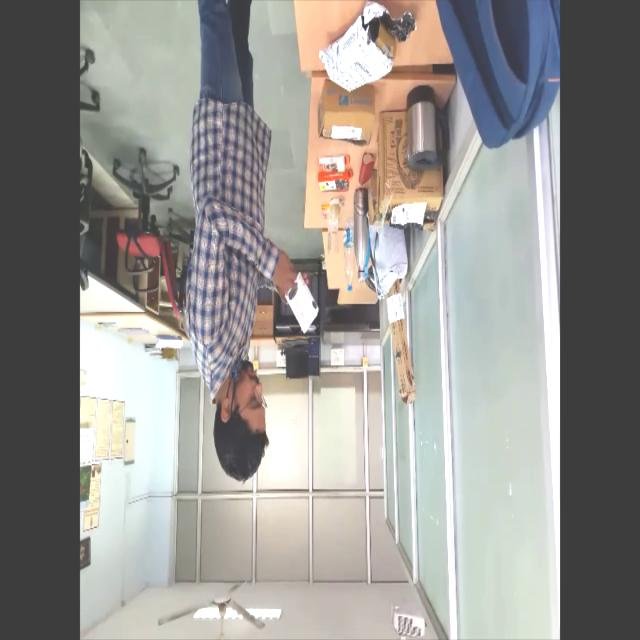normal: (178, 0, 323, 485)
